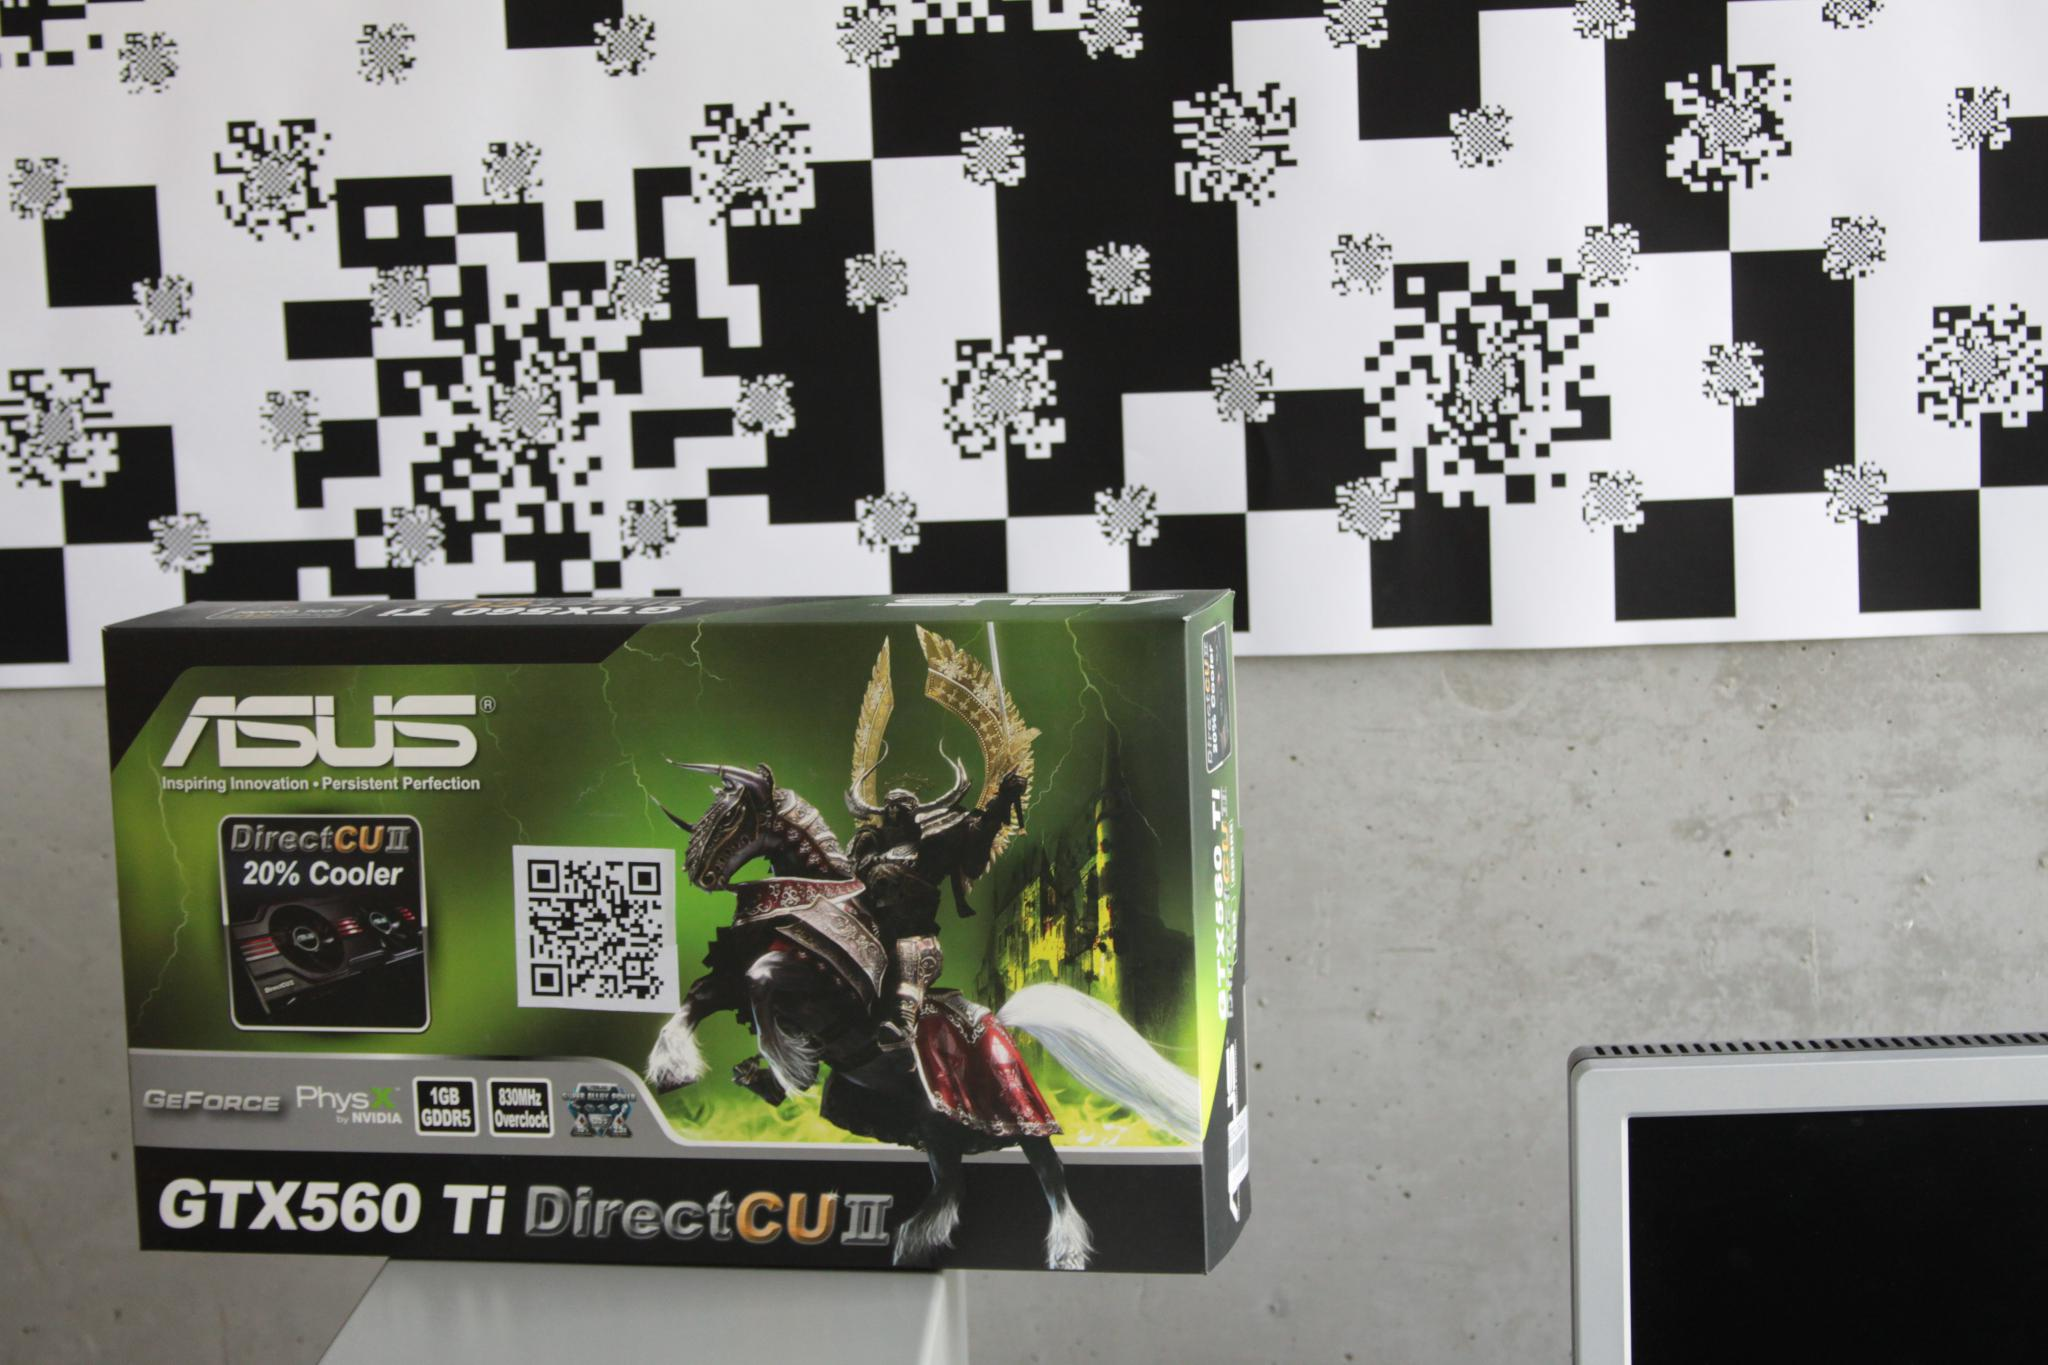Finder pattern: (525, 958, 576, 1004), (626, 855, 665, 905), (522, 853, 566, 896)
